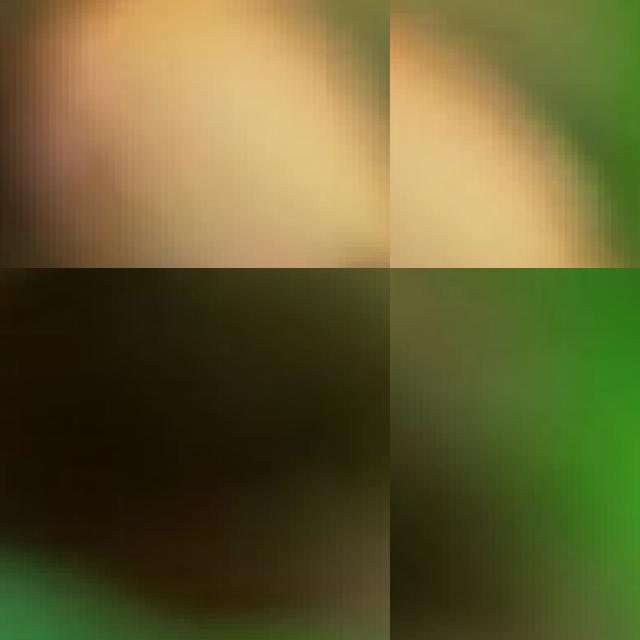fish: (0, 0, 390, 268), (390, 23, 640, 268)
